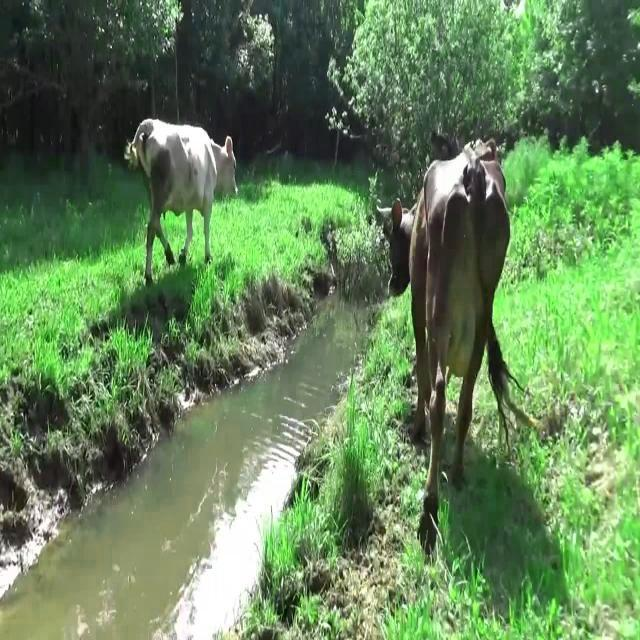cow: (390, 141, 531, 553), (125, 119, 238, 284)
